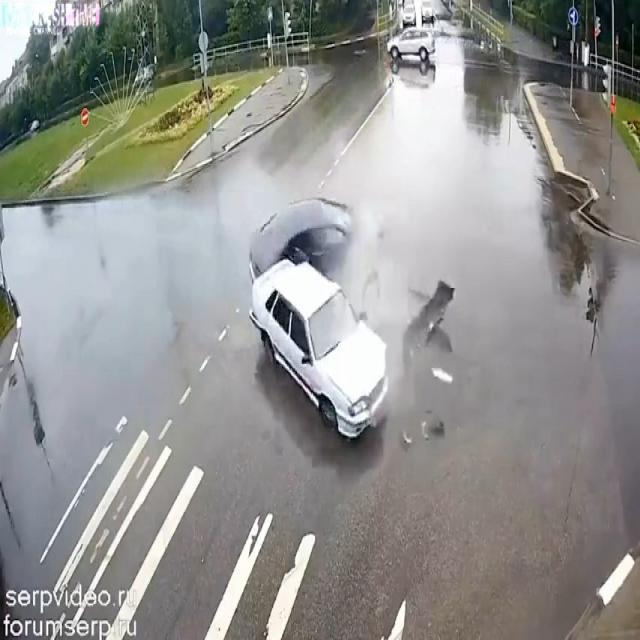Accident: (235, 162, 389, 448)
